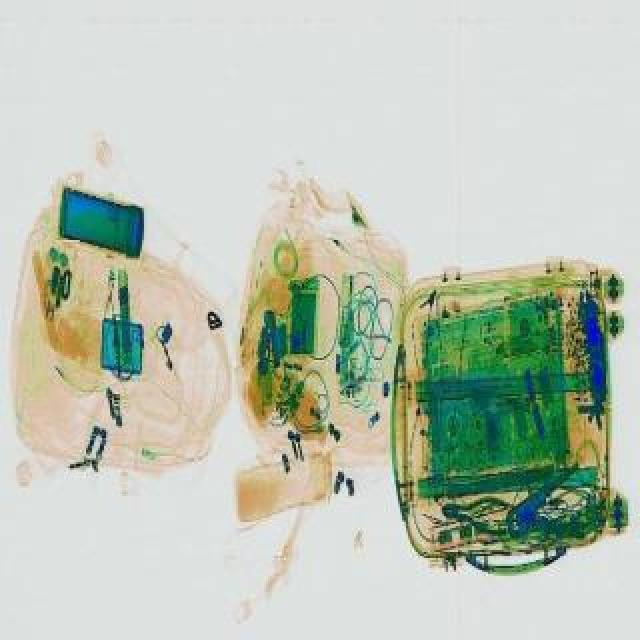wrench: (494, 458, 602, 550), (438, 488, 514, 532)
